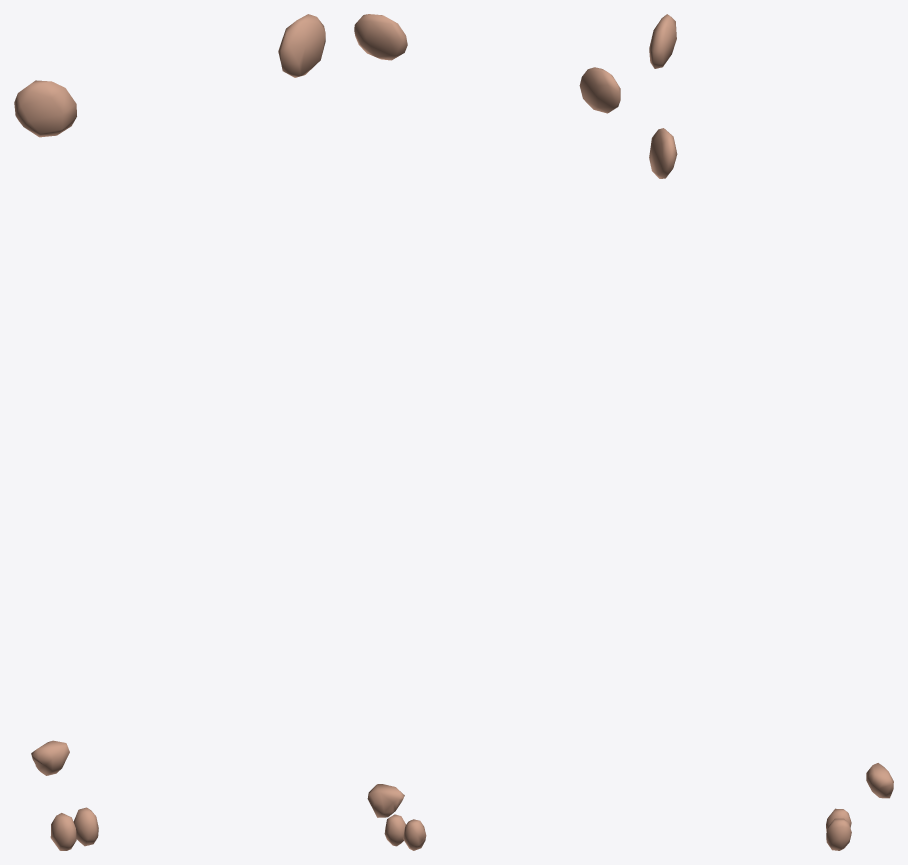
Rendered from pediatric_child_10y_male.reproductive.LOD3.glb.
The picture shows the model from 3 angles, left to right: view 1: azimuth 30°, elevation 25°; view 2: azimuth 150°, elevation 25°; view 3: azimuth 270°, elevation 25°; orthographic projection. The views are drawn at different scales.
Parts seen in each view (by area): view 1: PEDIATRIC.CHILD_10Y.MALE.REPRODUCTIVE.BREAST_ADIPOSE_TISSUE. (×2), PEDIATRIC.CHILD_10Y.MALE.REPRODUCTIVE.PROSTATE, PEDIATRIC.CHILD_10Y.MALE.REPRODUCTIVE.TESTIS.R, PEDIATRIC.CHILD_10Y.MALE.REPRODUCTIVE.TESTIS.L; view 2: PEDIATRIC.CHILD_10Y.MALE.REPRODUCTIVE.BREAST_ADIPOSE_TISSUE. (×2), PEDIATRIC.CHILD_10Y.MALE.REPRODUCTIVE.PROSTATE, PEDIATRIC.CHILD_10Y.MALE.REPRODUCTIVE.TESTIS.R, PEDIATRIC.CHILD_10Y.MALE.REPRODUCTIVE.TESTIS.L; view 3: PEDIATRIC.CHILD_10Y.MALE.REPRODUCTIVE.BREAST_ADIPOSE_TISSUE. (×2), PEDIATRIC.CHILD_10Y.MALE.REPRODUCTIVE.PROSTATE, PEDIATRIC.CHILD_10Y.MALE.REPRODUCTIVE.TESTIS.L.
Boxes of the visible parts, bbox=[...] form: PEDIATRIC.CHILD_10Y.MALE.REPRODUCTIVE.BREAST_ADIPOSE_TISSUE. (×2): bbox=[14, 14, 325, 137]; PEDIATRIC.CHILD_10Y.MALE.REPRODUCTIVE.PROSTATE: bbox=[31, 740, 69, 775]; PEDIATRIC.CHILD_10Y.MALE.REPRODUCTIVE.TESTIS.R: bbox=[50, 813, 76, 850]; PEDIATRIC.CHILD_10Y.MALE.REPRODUCTIVE.TESTIS.L: bbox=[73, 807, 98, 846]; PEDIATRIC.CHILD_10Y.MALE.REPRODUCTIVE.BREAST_ADIPOSE_TISSUE. (×2): bbox=[354, 14, 620, 113]; PEDIATRIC.CHILD_10Y.MALE.REPRODUCTIVE.PROSTATE: bbox=[367, 784, 404, 817]; PEDIATRIC.CHILD_10Y.MALE.REPRODUCTIVE.TESTIS.R: bbox=[403, 819, 426, 850]; PEDIATRIC.CHILD_10Y.MALE.REPRODUCTIVE.TESTIS.L: bbox=[384, 814, 405, 846]; PEDIATRIC.CHILD_10Y.MALE.REPRODUCTIVE.BREAST_ADIPOSE_TISSUE. (×2): bbox=[649, 14, 677, 178]; PEDIATRIC.CHILD_10Y.MALE.REPRODUCTIVE.PROSTATE: bbox=[866, 763, 893, 798]; PEDIATRIC.CHILD_10Y.MALE.REPRODUCTIVE.TESTIS.L: bbox=[826, 818, 851, 850].
Bounding box in the file's own units: 0.1492 × 0.3996 × 0.115.
